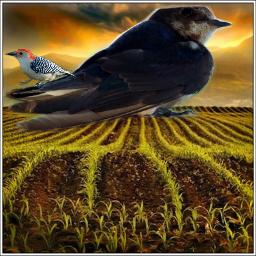Swallow: (4, 5, 232, 133)
Woodpecker: (5, 49, 76, 87)
